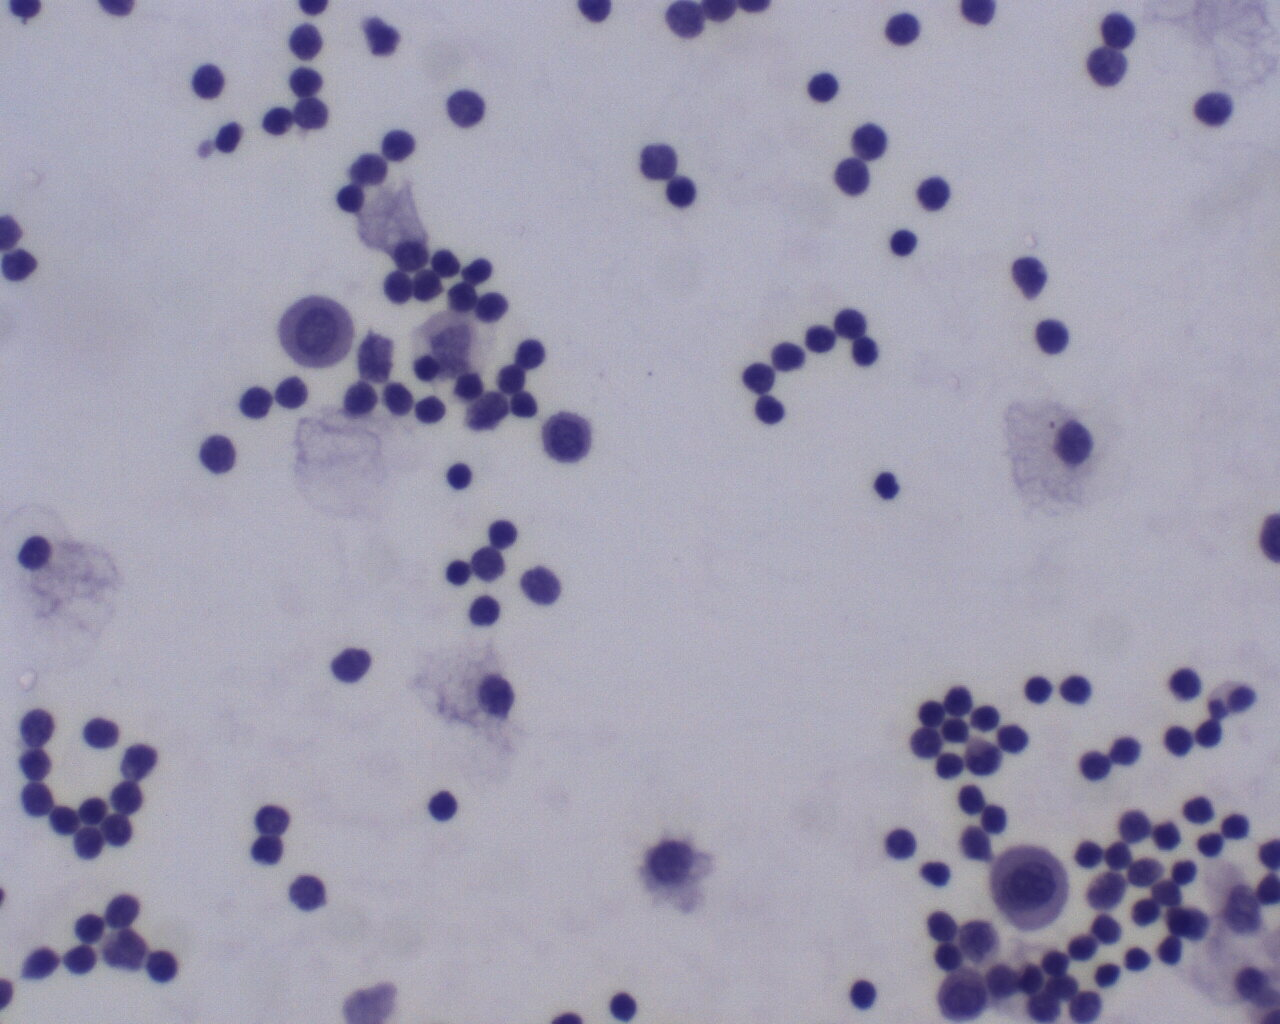lymph: (76, 707, 129, 757), (438, 82, 487, 131), (877, 219, 927, 267), (1014, 665, 1064, 709), (508, 330, 556, 376), (188, 59, 233, 106), (1058, 668, 1106, 711), (841, 973, 887, 1016), (196, 429, 240, 473), (1032, 315, 1075, 359), (802, 69, 846, 112), (140, 945, 183, 988), (464, 594, 509, 635), (879, 820, 920, 866), (867, 462, 908, 506), (664, 174, 706, 215), (799, 318, 841, 358), (750, 391, 789, 435), (426, 788, 468, 828), (1116, 941, 1158, 981), (17, 779, 56, 819), (1195, 827, 1234, 865), (1158, 720, 1195, 760), (605, 987, 644, 1024), (438, 459, 473, 493)
meso: (986, 839, 1072, 936), (272, 292, 360, 373)
